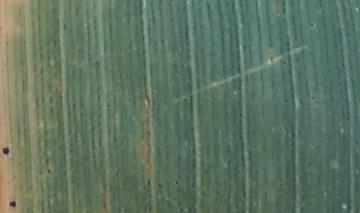tarspot: (7, 198, 18, 209), (1, 146, 11, 156), (145, 177, 153, 188), (155, 181, 164, 189), (45, 167, 53, 175), (173, 178, 180, 186), (307, 22, 315, 28), (316, 1, 325, 5)
